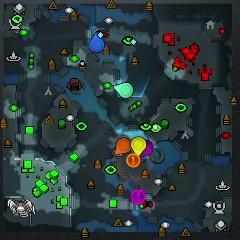Other: (130, 189, 146, 205), (126, 154, 140, 167)
p1: (90, 32, 105, 53)
p2: (114, 82, 133, 99)
p3: (141, 140, 153, 157)
p4: (132, 136, 146, 157)
p5: (115, 137, 130, 156)
